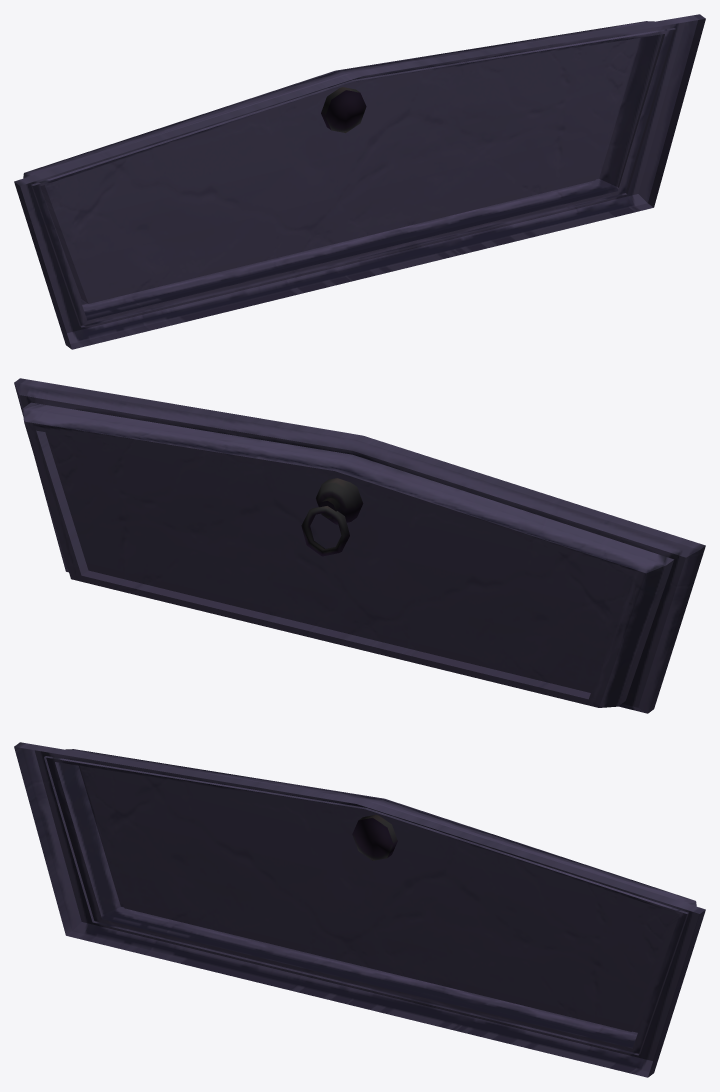
Rendered from MOD_LongDrawerClose_Block.fbx.
3 views of the same model, one above another, from view 1: azimuth 30°, elevation 25°; view 2: azimuth 150°, elevation 25°; view 3: azimuth 330°, elevation 25° (orthographic).
Visible parts, largest first — view 1: MOD_LongDrawerClose_Block; view 2: MOD_LongDrawerClose_Block; view 3: MOD_LongDrawerClose_Block.
Boxes of the visible parts, box(x1,y1,x2,y2) form: MOD_LongDrawerClose_Block: box(14, 14, 705, 349); MOD_LongDrawerClose_Block: box(14, 378, 705, 713); MOD_LongDrawerClose_Block: box(14, 742, 705, 1077).
Bounding box in the file's own units: 85.96 × 24.27 × 9.
1 material, 1 textured.
